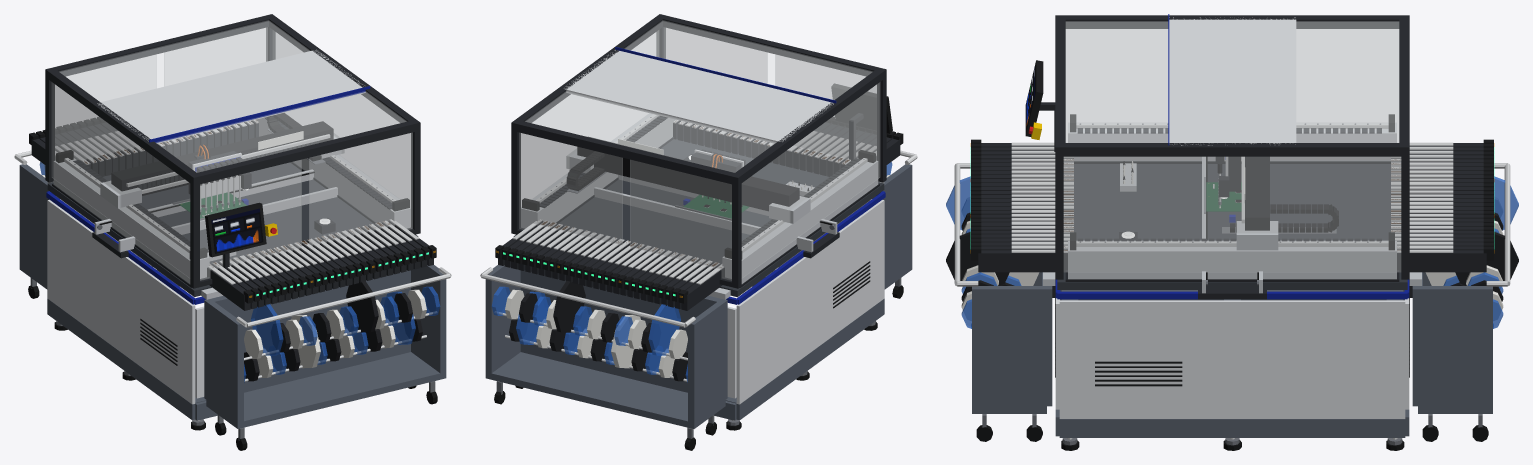
Rendered from mounter-plant.glb.
The picture shows the model from 3 angles, left to right: view 1: azimuth 30°, elevation 25°; view 2: azimuth 150°, elevation 25°; view 3: azimuth 270°, elevation 25°; orthographic projection. The views are drawn at different scales.
Parts seen in each view (by area): view 1: MNT.hood.panes, MNT.hood.frame, MNT.feeders_front.trolley, MNT.cabinet.side_left, MNT.feeders_front.feeders, MNT.feeders_front.reels, MNT.bed.casting, MNT.yaxis.beam_left, MNT.feeders_rear.feeders, MNT.gantry.beam, MNT.yaxis.beam_right, MNT.feeders_rear.trolley (+8 smaller); view 2: MNT.hood.panes, MNT.hood.frame, MNT.feeders_rear.trolley, MNT.cabinet.side_left, MNT.feeders_rear.feeders, MNT.feeders_rear.reels, MNT.bed.casting, MNT.yaxis.beam_left, MNT.feeders_front.feeders, MNT.gantry.beam, MNT.yaxis.beam_right, MNT.feeders_front.trolley (+6 smaller); view 3: MNT.hood.panes, MNT.cabinet.side_right, MNT.hood.frame, MNT.bed.casting, MNT.yaxis.beam_right, MNT.feeders_rear.feeders, MNT.feeders_front.trolley, MNT.feeders_rear.trolley, MNT.feeders_front.feeders, MNT.yaxis.beam_left, MNT.gantry.beam, MNT.feeders_front.reels (+9 smaller).
Part boxes in pixels (x1,y1,x2,y2): MNT.hood.panes: (51,20,412,280); MNT.hood.frame: (45,14,420,288); MNT.feeders_front.trolley: (201,265,451,450); MNT.cabinet.side_left: (46,192,195,420); MNT.feeders_front.feeders: (207,219,436,310); MNT.feeders_front.reels: (244,281,440,382); MNT.bed.casting: (47,162,418,296); MNT.yaxis.beam_left: (52,150,209,287); MNT.feeders_rear.feeders: (29,117,258,176); MNT.gantry.beam: (100,121,344,208); MNT.yaxis.beam_right: (256,117,410,228); MNT.feeders_rear.trolley: (14,150,152,298); MNT.hood.panes: (519,20,880,280); MNT.hood.frame: (511,14,886,288); MNT.feeders_rear.trolley: (480,265,730,450); MNT.cabinet.side_left: (736,192,885,420); MNT.feeders_rear.feeders: (495,219,724,310); MNT.feeders_rear.reels: (491,281,687,382); MNT.bed.casting: (513,139,884,297); MNT.yaxis.beam_left: (722,150,879,287); MNT.feeders_front.feeders: (673,117,903,176); MNT.gantry.beam: (566,136,810,223); MNT.yaxis.beam_right: (521,113,675,228); MNT.feeders_front.trolley: (778,150,917,298); MNT.hood.panes: (1064,21,1400,271); MNT.cabinet.side_right: (1057,291,1407,437); MNT.hood.frame: (1055,14,1409,279); MNT.bed.casting: (1057,164,1407,289); MNT.yaxis.beam_right: (1065,232,1399,281); MNT.feeders_rear.feeders: (1391,139,1494,272); MNT.feeders_front.trolley: (954,163,1055,441); MNT.feeders_rear.trolley: (1409,163,1510,441); MNT.feeders_front.feeders: (970,139,1073,272); MNT.yaxis.beam_left: (1068,114,1396,163); MNT.gantry.beam: (1236,156,1278,250); MNT.feeders_front.reels: (946,176,1039,328).
Bounding box in the file's own units: 1.67 × 1.64 × 2.75.
27 materials, 1 textured.
